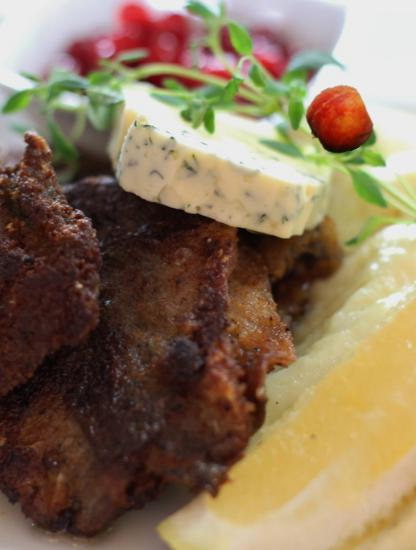Peach: (304, 87, 372, 155)
